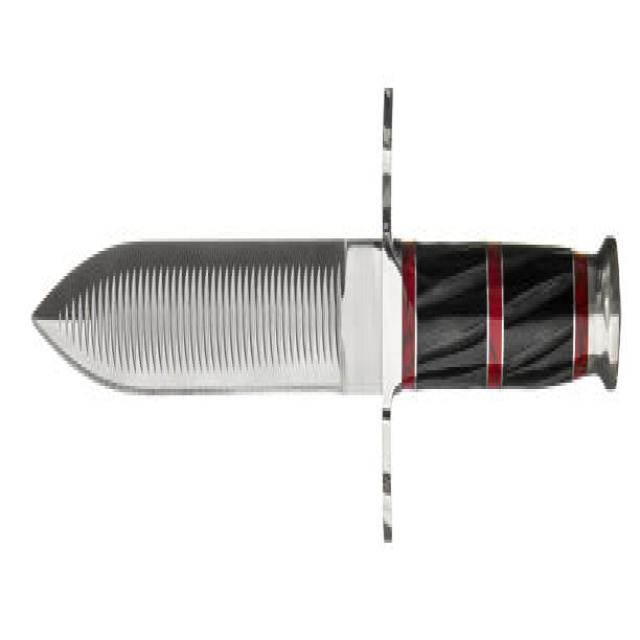knife: (31, 75, 623, 554)
